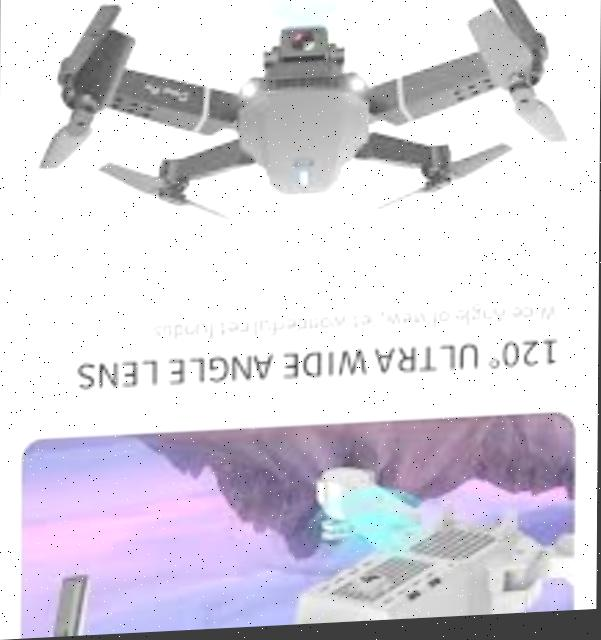drone: (0, 0, 579, 255)
